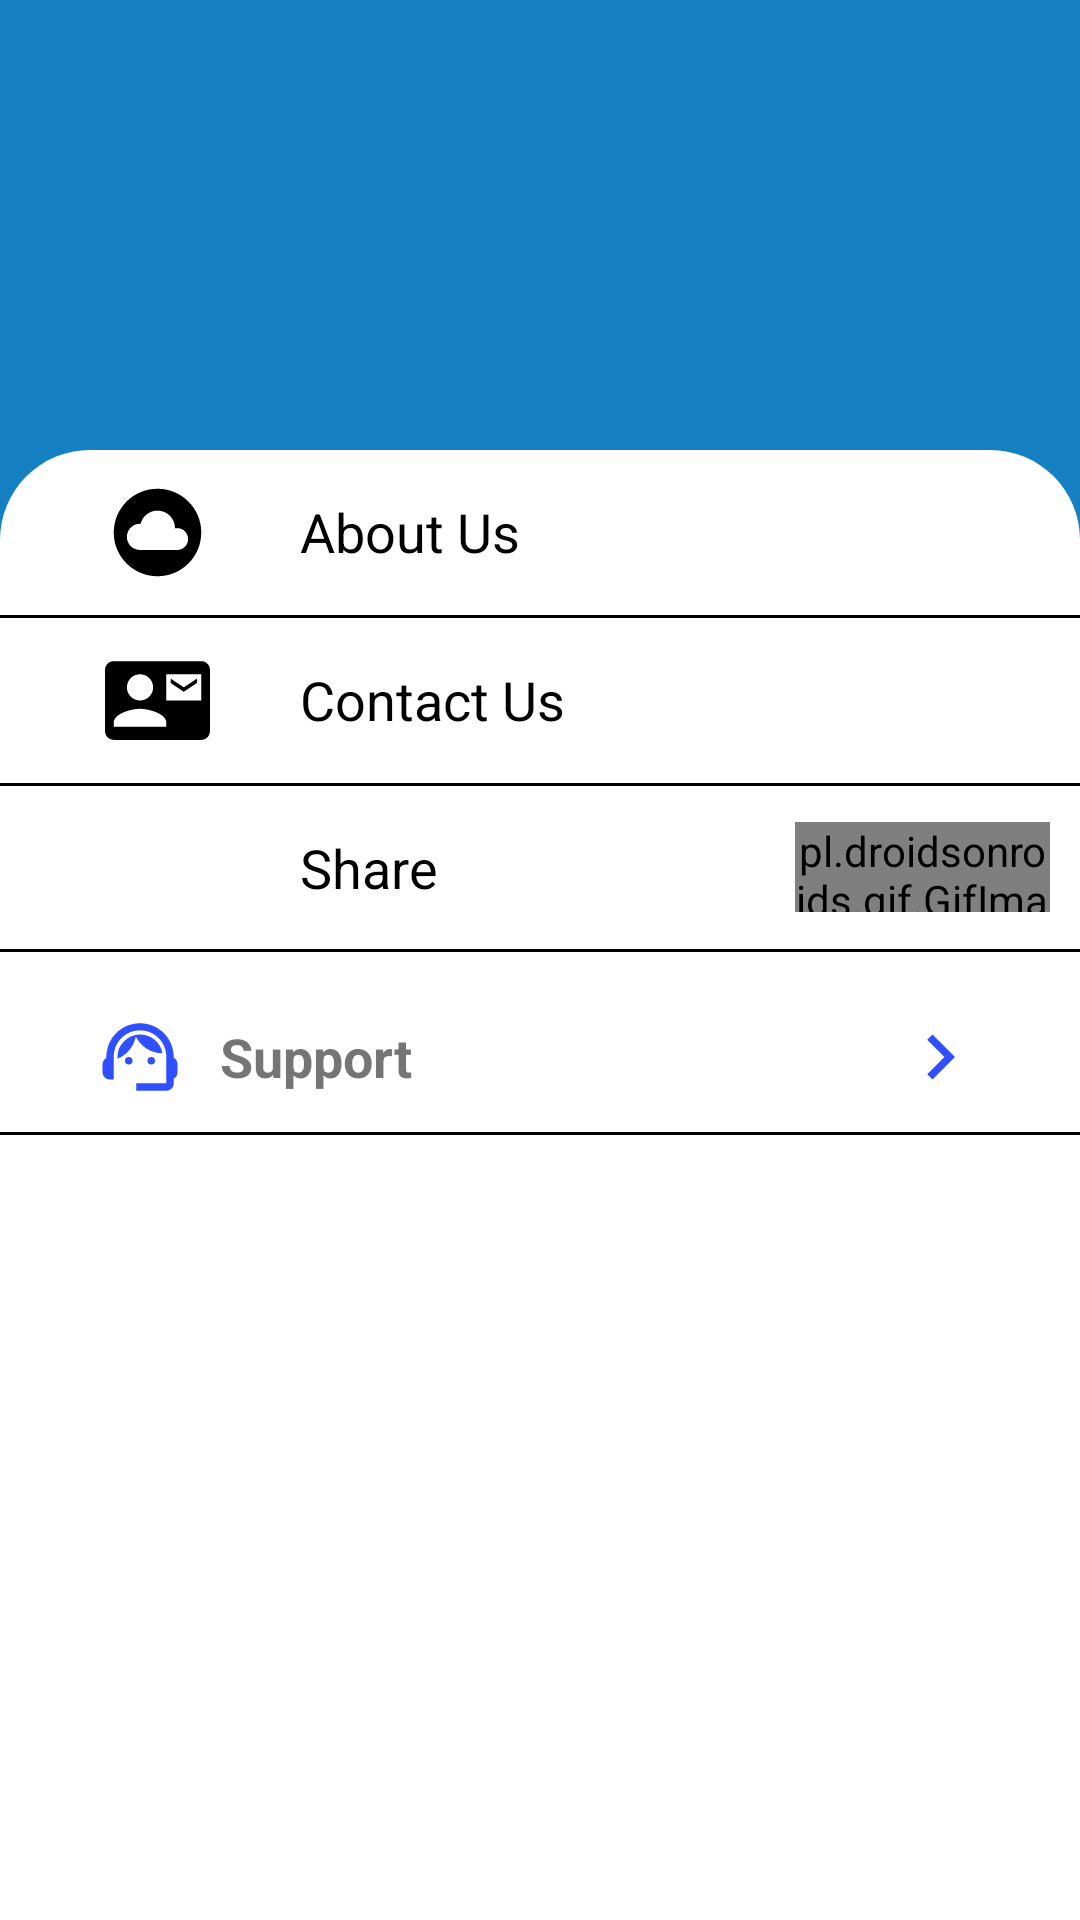

Icon bounding boxes for this 1080×1920 phone screenshot, format box=[x1, y1, x2, y2]:
chevron right: box=[927, 1034, 955, 1080]
cloud circle: box=[113, 488, 202, 577]
contact mail: box=[105, 661, 210, 740]
